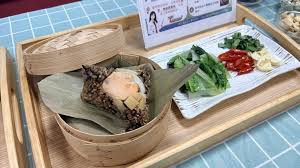zongzi: (81, 64, 154, 130)
